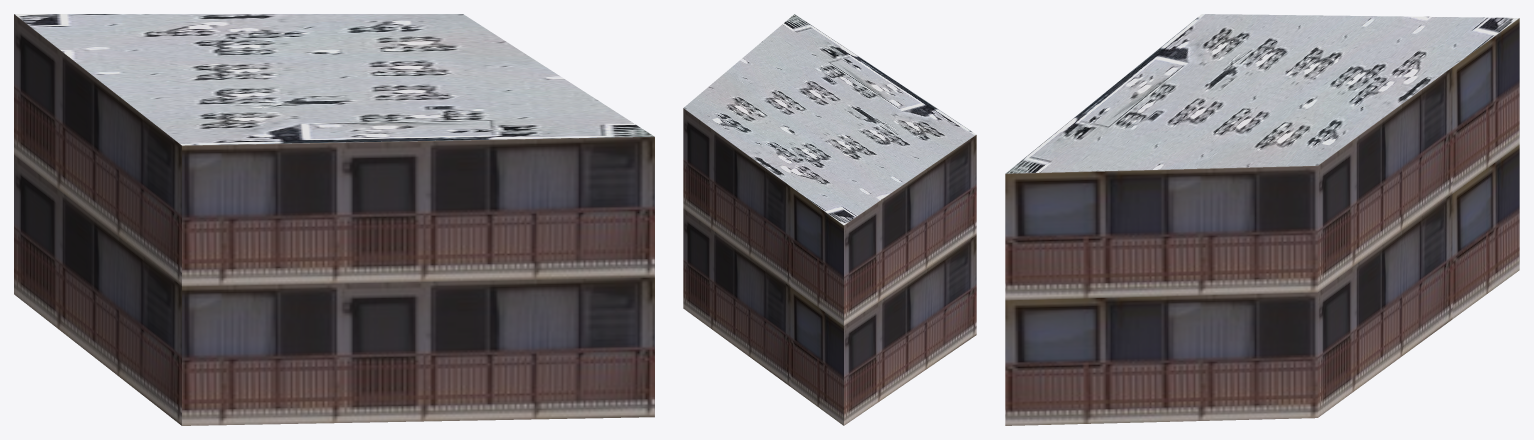
Rendered from ResTex__2471.fbx.
The picture shows the model from 3 angles, left to right: view 1: azimuth 30°, elevation 25°; view 2: azimuth 150°, elevation 25°; view 3: azimuth 270°, elevation 25°; orthographic projection. The views are drawn at different scales.
Parts seen in each view (by area): view 1: CityEngineMaterial_6_m, CityEngineMaterial_m; view 2: CityEngineMaterial_6_m, CityEngineMaterial_m; view 3: CityEngineMaterial_6_m, CityEngineMaterial_m.
Part boxes in pixels (x1,y1,x2,y2): CityEngineMaterial_6_m: (14,14,654,425); CityEngineMaterial_m: (14,14,653,145); CityEngineMaterial_6_m: (683,108,976,425); CityEngineMaterial_m: (684,14,976,225); CityEngineMaterial_6_m: (1005,18,1519,425); CityEngineMaterial_m: (1005,14,1518,173).
Bounding box in the file's own units: 8.14 × 6 × 11.09.
Materials: 2 (2 with a texture image).
